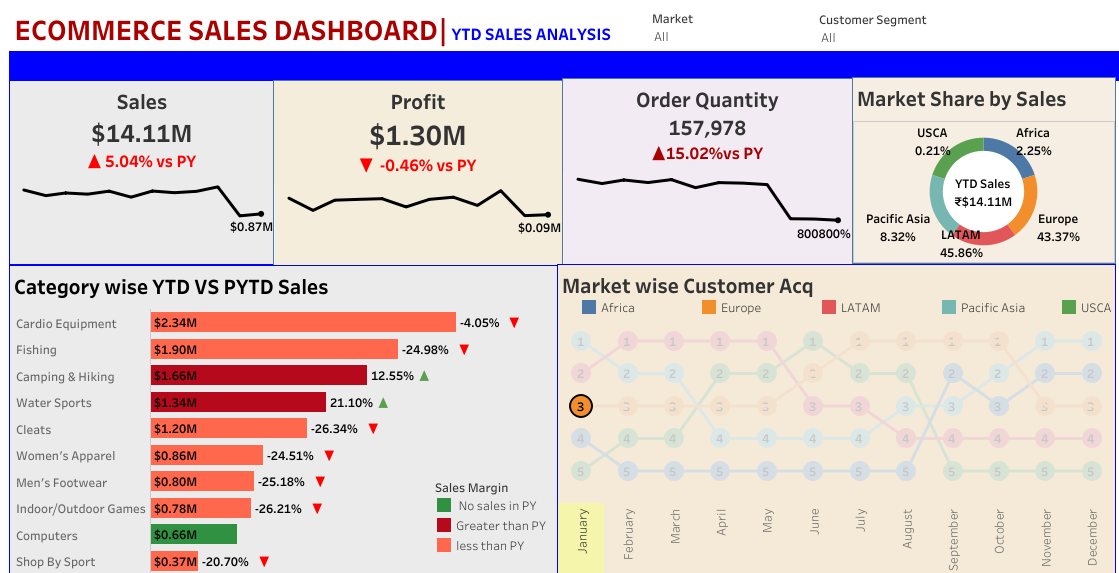

Layout of this report page (visuals, bound fields, positions):
{"tool":"tableau","page":{"name":"Dashboard 1","canvas":[1000,1000],"units":"permille","ordinal":0},"visuals":[{"type":"title","box":[5,9.4,990,49.4]},{"type":"filter","title":"Sales KPI ","param":"[federated.0vnflh61qz6dqk16unobk1ousksz].[none:Market:nk]","box":[407.5,9.4,83.1,50.6]},{"type":"filter","title":"Sales KPI ","param":"[federated.0vnflh61qz6dqk16unobk1ousksz].[none:Customer Segment:nk]","box":[511.9,10.6,96.2,48.2]},{"type":"blank","box":[5,58.8,990,37.6]},{"type":"worksheet","title":"Market Share by Sales","mark":"Pie","cols":["Calculation_1233986344652214273","Calculation_1233986344652251139"],"box":[532.5,90.6,165,220]},{"type":"worksheet","title":"Order Quantity","mark":"Automatic","rows":["Order Quantity"],"cols":["Order Date"],"box":[351.2,91.8,181.9,220]},{"type":"worksheet","title":"Sales KPI ","mark":"Automatic","rows":["Sales"],"cols":["Order Date"],"box":[5.6,94.1,166.2,217.7]},{"type":"worksheet","title":"Profit KPI ","mark":"Automatic","rows":["Profit Per Order"],"cols":["Order Date"],"box":[170.6,94.1,181.2,217.7]},{"type":"worksheet","title":"Market wise Customer Acq","mark":"Automatic","cols":["Order Date"],"box":[348.1,310.6,349.4,376.5]},{"type":"worksheet","title":"Category wise YTD VS PYTD Sales","mark":"Bar","rows":["Category Name"],"cols":["Calculation_1233986344655327237","Calculation_1233986344655327237"],"box":[5.6,311.8,343.8,365.9]},{"type":"legend","title":"Market wise Customer Acq","param":"[federated.0vnflh61qz6dqk16unobk1ousksz].[none:Market:nk]","box":[361.9,349.4,345.6,25.9]},{"type":"legend","title":"Category wise YTD VS PYTD Sales","param":"[federated.0vnflh61qz6dqk16unobk1ousksz].[usr:Calculation_1233986344704483340:nk","box":[271.2,560,78.1,115.3]}]}

Visuals, with their boxes on the dashboard's canvas, which has no fixed pixel size, in thousandths of its width and height (x1, y1, x2, y2). These are canvas units, not pixel positions in the 1119x573 screenshot, which may show the page scaled, cropped or inside an application window:
title: crop(5, 9, 995, 59)
"Sales KPI " filter: crop(408, 9, 491, 60)
"Sales KPI " filter: crop(512, 11, 608, 59)
blank: crop(5, 59, 995, 96)
"Market Share by Sales" worksheet (Pie marks): crop(532, 91, 698, 311)
"Order Quantity" worksheet: crop(351, 92, 533, 312)
"Sales KPI " worksheet: crop(6, 94, 172, 312)
"Profit KPI " worksheet: crop(171, 94, 352, 312)
"Market wise Customer Acq" worksheet: crop(348, 311, 698, 687)
"Category wise YTD VS PYTD Sales" worksheet (Bar marks): crop(6, 312, 349, 678)
"Market wise Customer Acq" legend: crop(362, 349, 708, 375)
"Category wise YTD VS PYTD Sales" legend: crop(271, 560, 349, 675)
